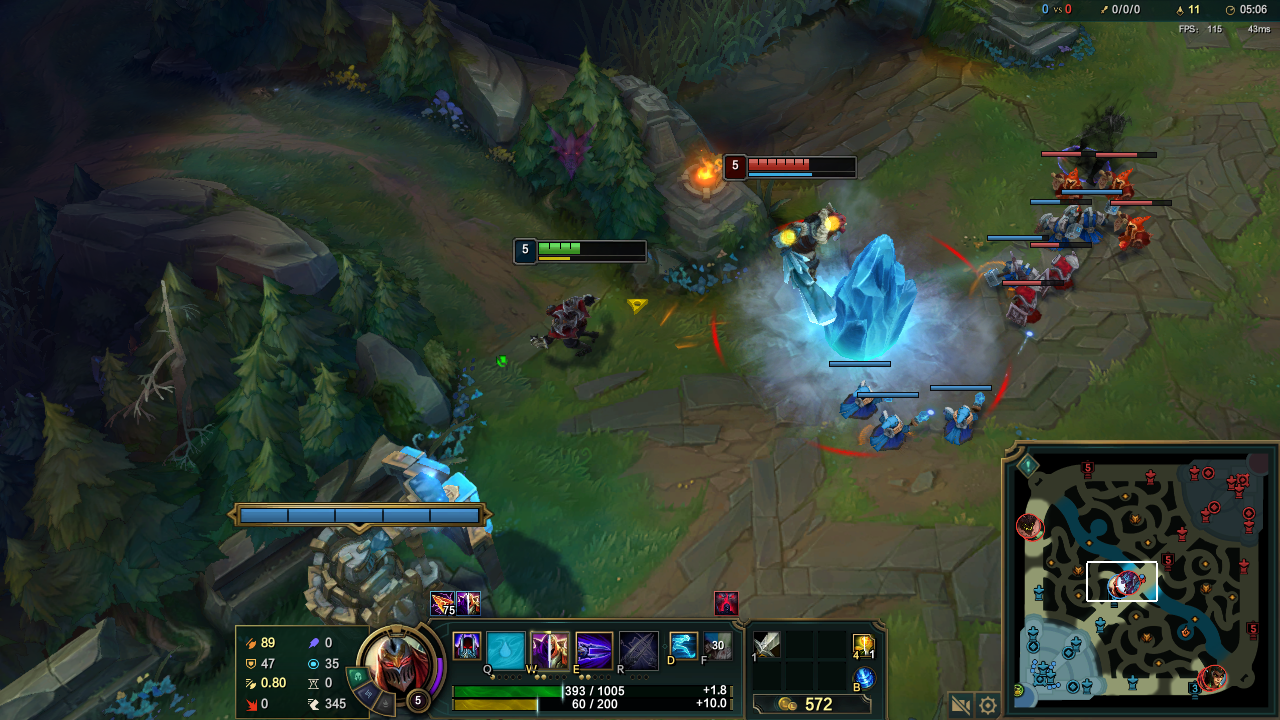DFYX: (744, 157, 854, 176)
